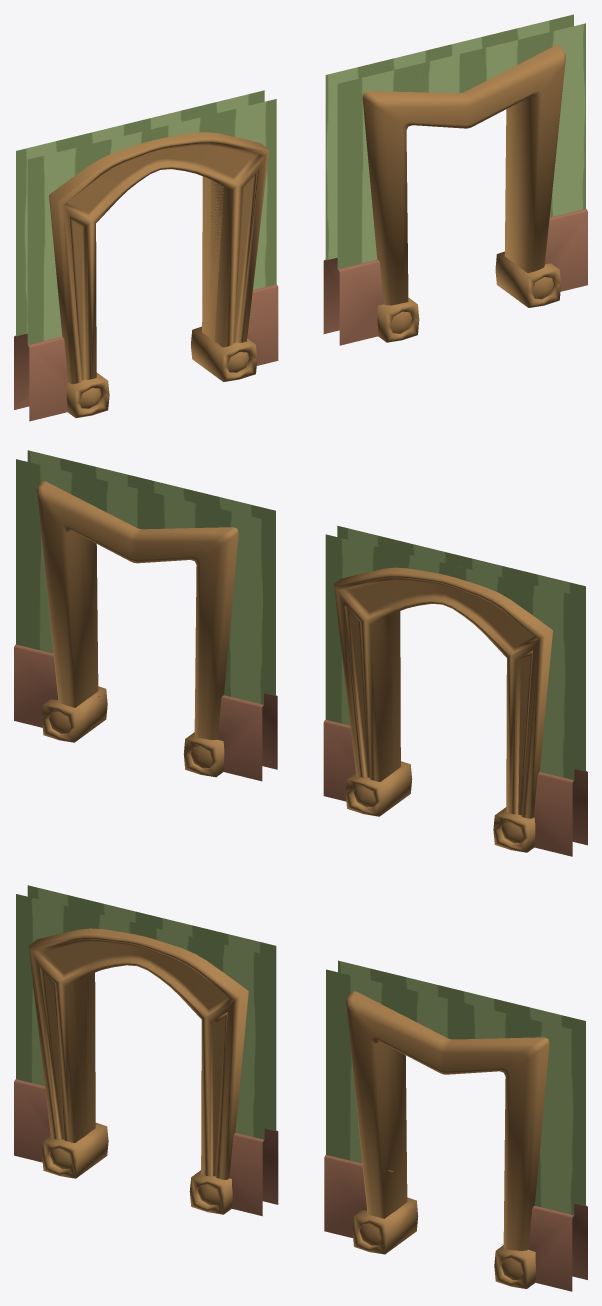
Rendered from Puertas arregladas.fbx.
3 renders of one model, top to bottom at view 1: azimuth 30°, elevation 25°; view 2: azimuth 150°, elevation 25°; view 3: azimuth 330°, elevation 25°, orthographic.
Parts seen in each view (by area): view 1: door_frame5, door_frame1, Cube.004, Cube.003, Cube.001, Cube.002; view 2: door_frame5, door_frame1, Cube.001, Cube.002, Cube.004, Cube.003; view 3: door_frame5, door_frame1, Cube.004, Cube.003, Cube.002, Cube.001.
Part boxes in pixels (x1=…): door_frame5: x1=49, y1=132, x2=268, y2=417; door_frame1: x1=362, y1=45, x2=565, y2=342; Cube.004: x1=337, y1=23, x2=587, y2=345; Cube.003: x1=27, y1=99, x2=278, y2=421; Cube.001: x1=323, y1=14, x2=573, y2=333; Cube.002: x1=14, y1=90, x2=264, y2=409; door_frame5: x1=334, y1=566, x2=552, y2=852; door_frame1: x1=37, y1=481, x2=238, y2=777; Cube.001: x1=14, y1=459, x2=263, y2=781; Cube.002: x1=323, y1=534, x2=574, y2=856; Cube.004: x1=27, y1=450, x2=277, y2=769; Cube.003: x1=337, y1=525, x2=587, y2=845; door_frame5: x1=28, y1=928, x2=248, y2=1214; door_frame1: x1=346, y1=991, x2=549, y2=1288; Cube.004: x1=324, y1=969, x2=574, y2=1291; Cube.003: x1=14, y1=894, x2=264, y2=1216; Cube.002: x1=27, y1=885, x2=278, y2=1204; Cube.001: x1=338, y1=960, x2=587, y2=1279.
Size of the model in its own units: 1346 by 603 by 148.
